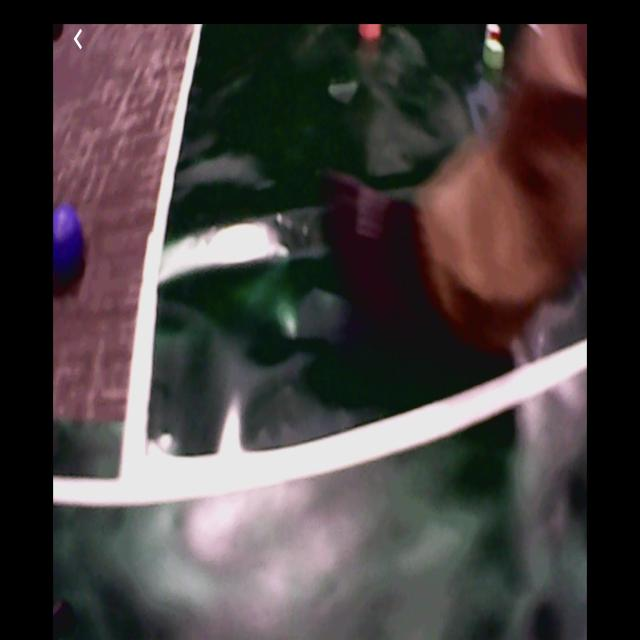ball: (55, 209, 83, 274)
